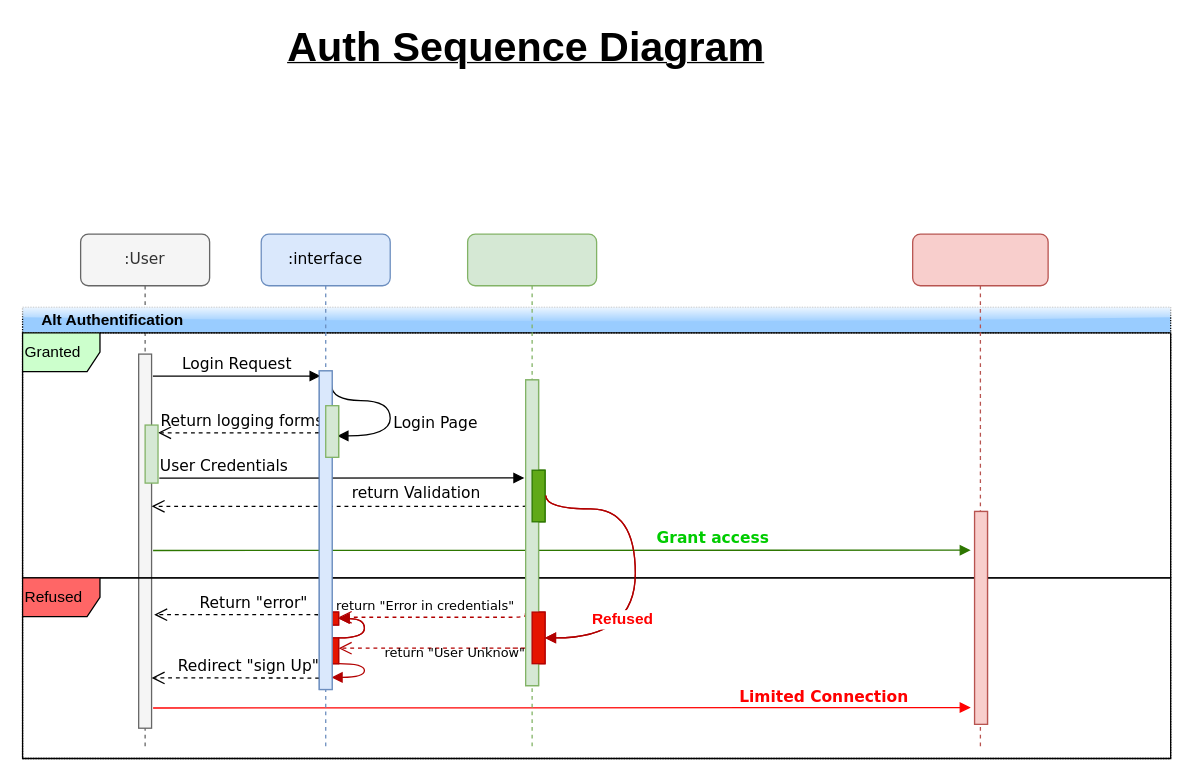
The diagram is 1193 pixels wide and 780 high, and some of its shapes have lost their labels. The centre of each missing label's shape, as x and y in pixels:
":Application" goes at (x=979, y=491).
":auth" goes at (x=531, y=491).
